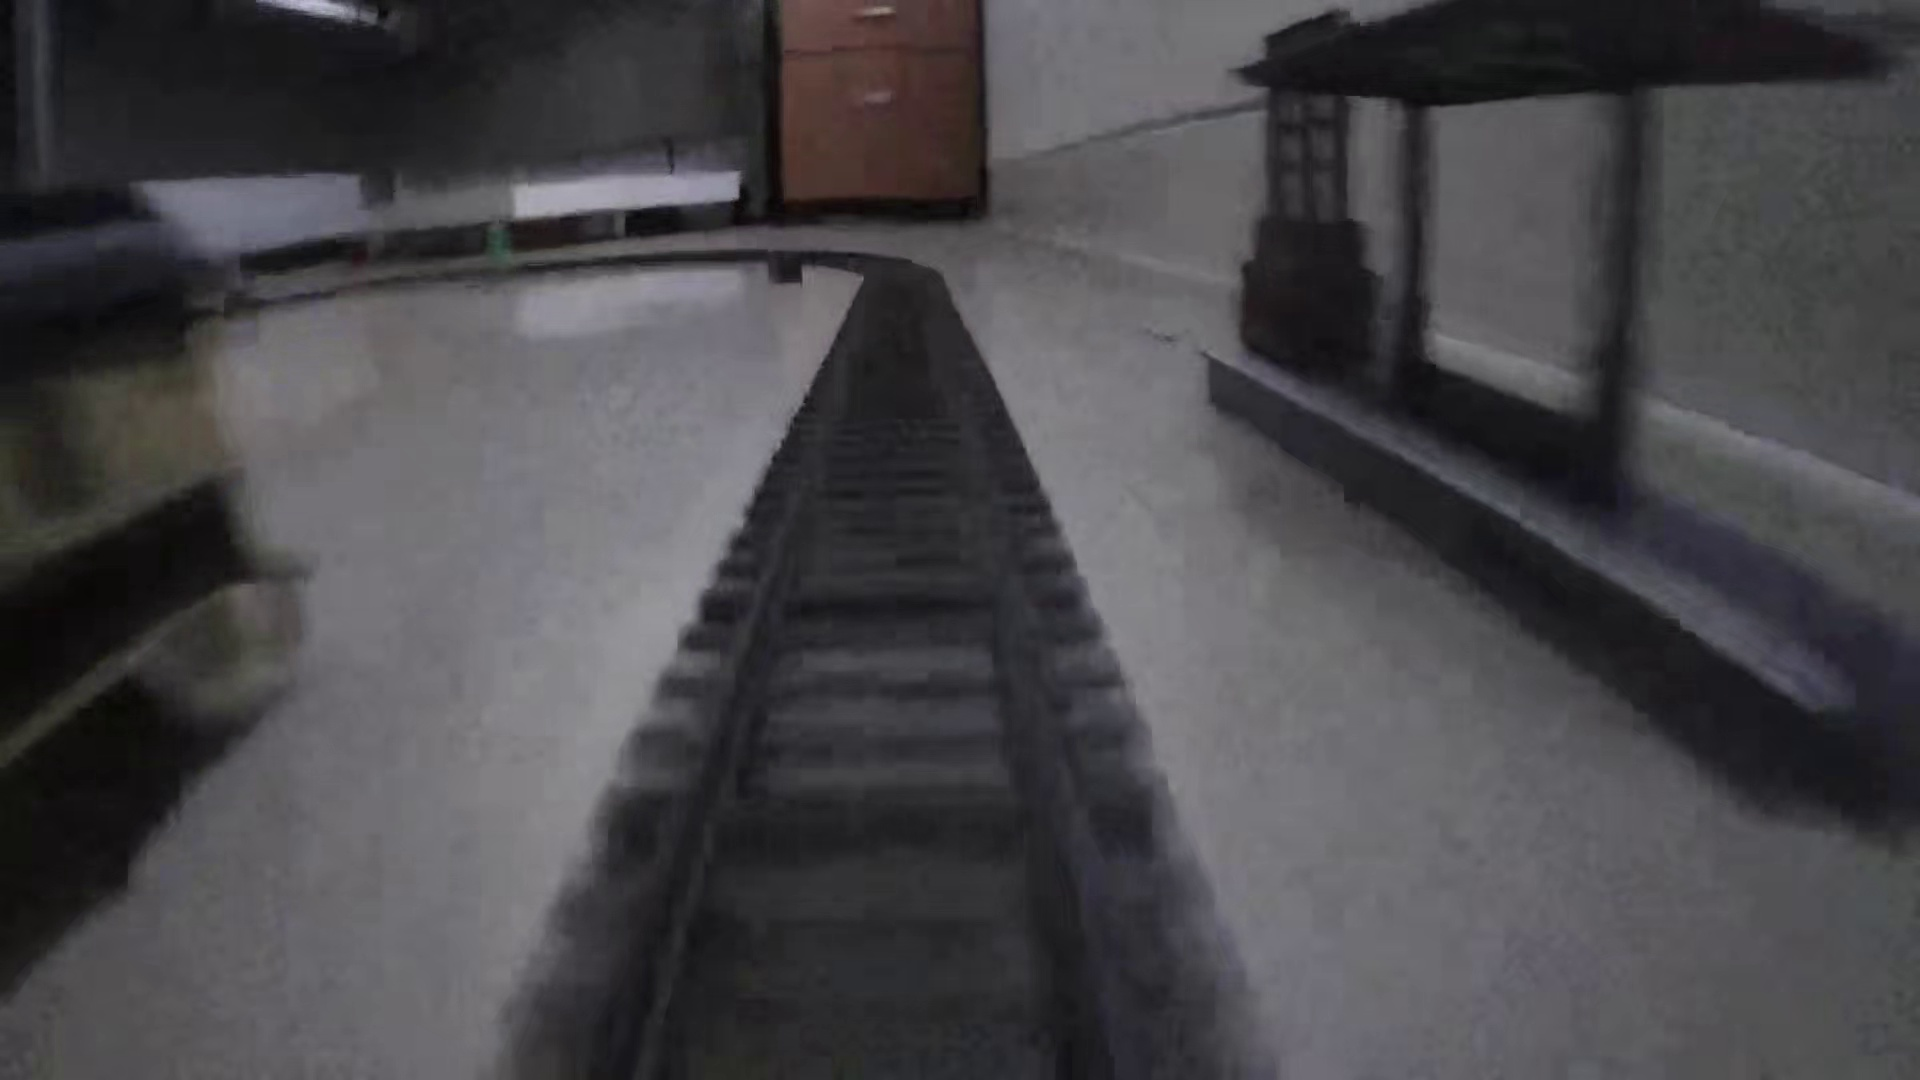box: (765, 246, 805, 287)
